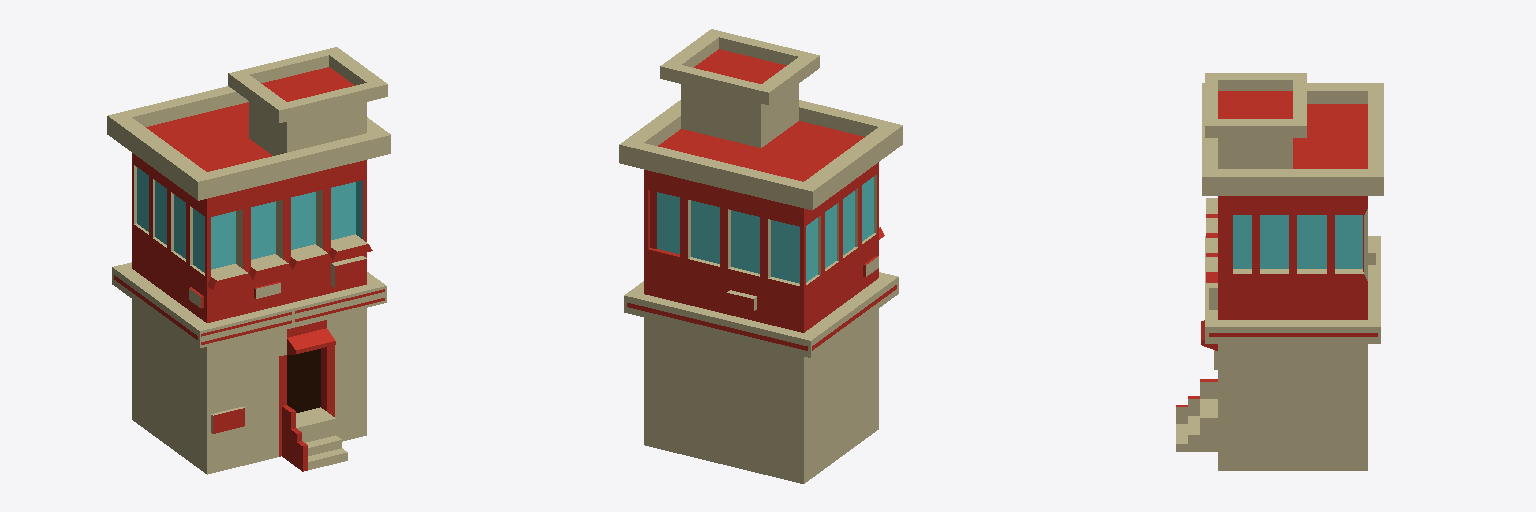
The model's file is buliding.obj.
3 views of the same model, side by side, from view 1: azimuth 30°, elevation 25°; view 2: azimuth 150°, elevation 25°; view 3: azimuth 270°, elevation 25° (orthographic).
Parts seen in each view (by area): view 1: Cube; view 2: Cube; view 3: Cube.
Part boxes in pixels (x1,y1,x2,y2): Cube: (107, 47, 390, 474); Cube: (619, 29, 902, 483); Cube: (1176, 73, 1383, 470).
Bounding box in the file's own units: 2.42 × 4.22 × 2.26.